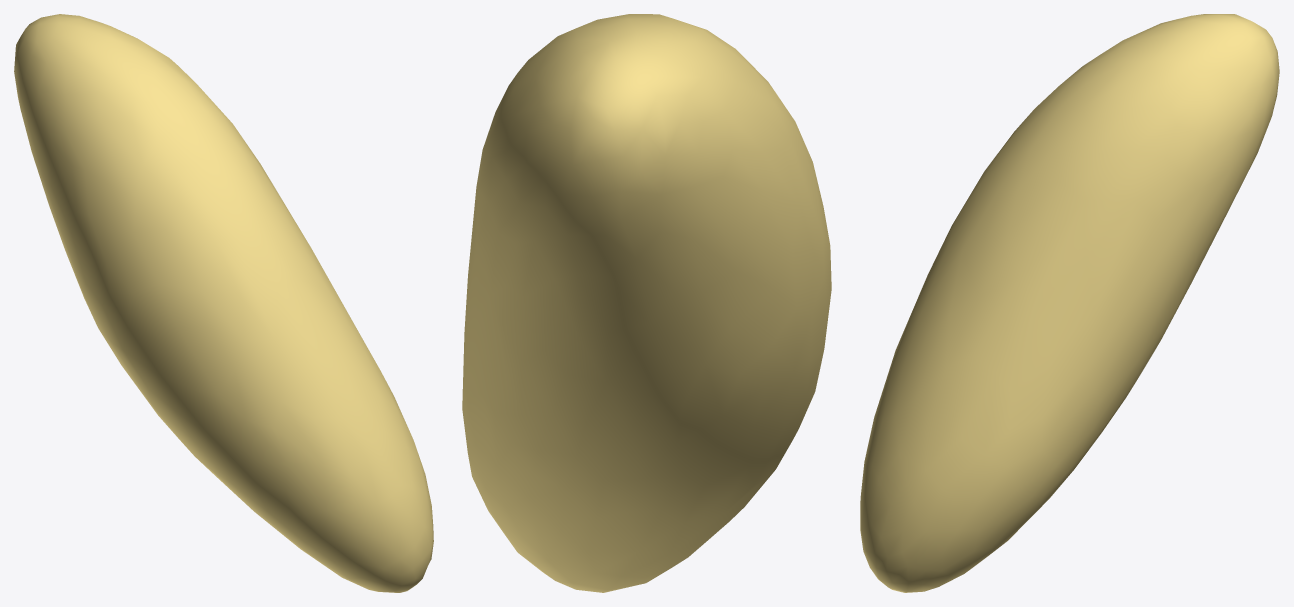
File: fma53479_mm2599.glb
3 views of the same model, side by side, from view 1: azimuth 30°, elevation 25°; view 2: azimuth 150°, elevation 25°; view 3: azimuth 270°, elevation 25° (orthographic). The views are drawn at different scales.
Parts seen in each view (by area): view 1: FMA53479_MM2599; view 2: FMA53479_MM2599; view 3: FMA53479_MM2599.
Part boxes in pixels (bbox=[...]): FMA53479_MM2599: bbox=[14, 14, 433, 592]; FMA53479_MM2599: bbox=[462, 14, 831, 592]; FMA53479_MM2599: bbox=[860, 14, 1279, 592].
Size of the model in its own units: 0.00377 by 0.00668 by 0.00518.
